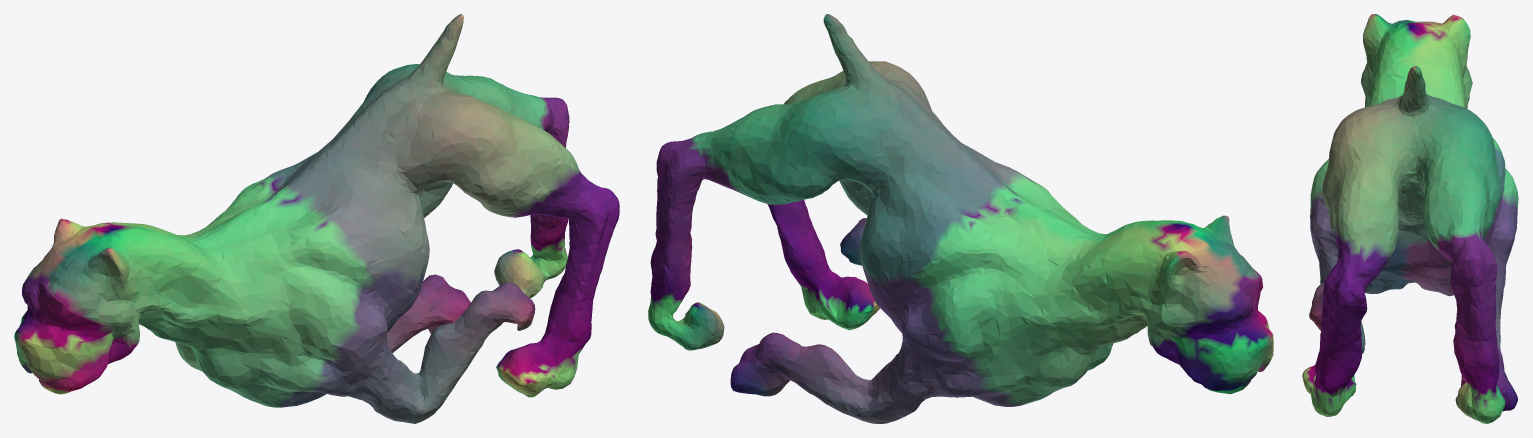
File: dog1-12.off.obj
3 views of the same model, side by side, from view 1: azimuth 30°, elevation 25°; view 2: azimuth 150°, elevation 25°; view 3: azimuth 270°, elevation 25° (orthographic). The views are drawn at different scales.
Bounding box in the file's own units: 1.58 × 0.9424 × 0.5439.
